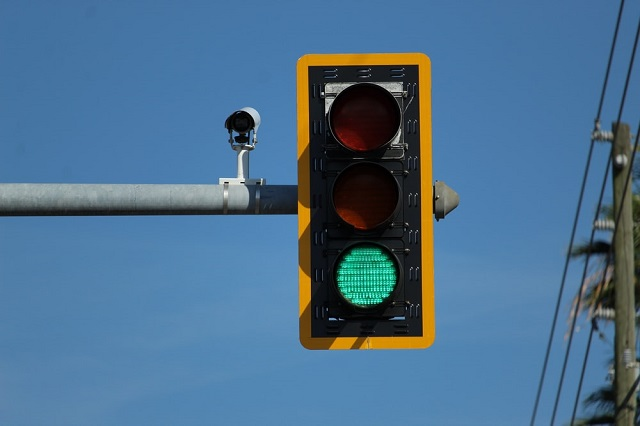pole: (609, 122, 640, 425), (2, 184, 299, 214)
traffic light: (298, 53, 434, 348)
